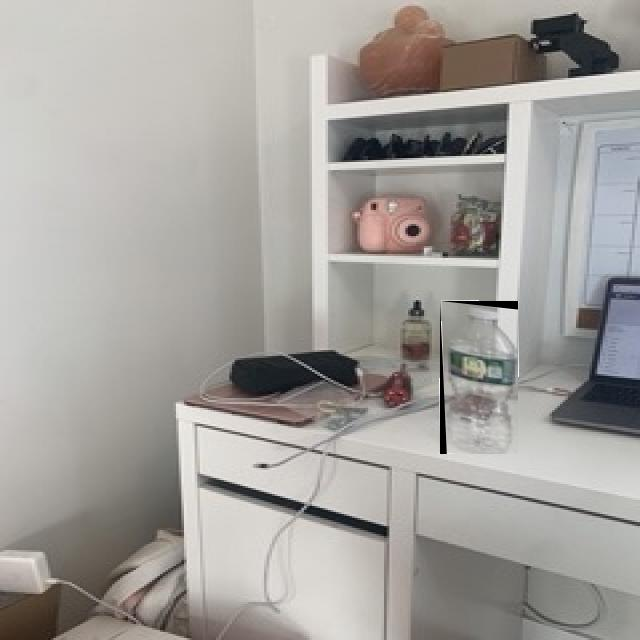water_bottle: (440, 301, 518, 454)
